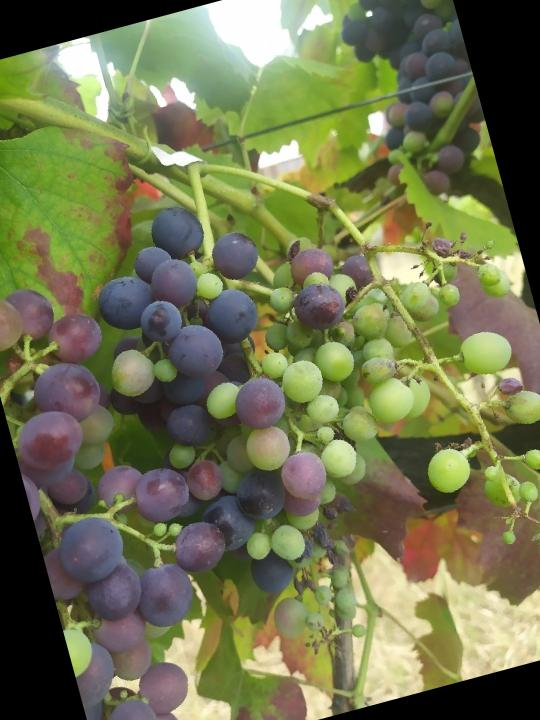grape: (68, 171, 417, 698), (275, 185, 540, 615)
